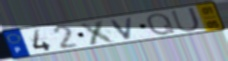2: (52, 25, 81, 50)
4: (32, 29, 53, 52)
Q: (145, 12, 177, 36)
U: (169, 6, 202, 33)
V: (109, 16, 135, 41)
X: (77, 19, 119, 46)
